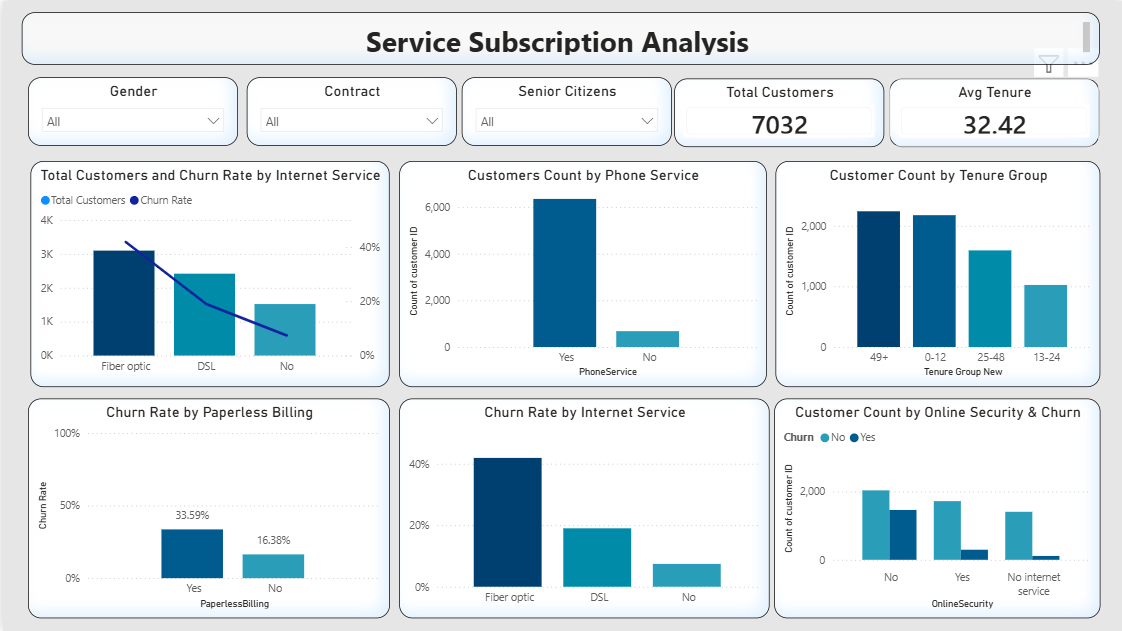

The page's visual inventory and layout, read from the dashboard file:
{"tool":"powerbi","page":{"name":"📱 Service Subscription Analysis","canvas":[1280,720],"ordinal":2},"visuals":[{"type":"clusteredColumnChart","title":"Customers Count by Phone Service","fields":{"Category":["Telco-Customer-Churn.PhoneService"],"Y":["CountNonNull(Telco-Customer-Churn.customer ID)"]},"box":[452.4,182.2,419.8,258.2],"z":0},{"type":"lineClusteredColumnComboChart","title":"Total Customers and Churn Rate by Internet Service","fields":{"Category":["Telco-Customer-Churn.InternetService"],"Y2":["Telco-Customer-Churn.Churn Rate"],"Y":["Telco-Customer-Churn.Total Customers"]},"box":[31.4,182.2,410.2,258.2],"z":1000},{"type":"lineClusteredColumnComboChart","title":"Churn Rate by Paperless Billing","fields":{"Category":["Telco-Customer-Churn.PaperlessBilling"],"Y":["Telco-Customer-Churn.Churn Rate"]},"box":[29,454.8,413.8,250.9],"z":2000},{"type":"slicer","title":"Gender","fields":{"Values":["Telco-Customer-Churn.gender"]},"box":[29,86.9,240.1,78.2],"z":3000},{"type":"slicer","title":"Contract","fields":{"Values":["Telco-Customer-Churn.Contract"]},"box":[278.7,86.9,240.1,78.4],"z":4000},{"type":"slicer","title":"Senior Citizens","fields":{"Values":["Telco-Customer-Churn.SeniorCitizen"]},"box":[523.6,86.9,240.1,78.4],"z":5000},{"type":"clusteredColumnChart","title":"Churn Rate by Internet Service","fields":{"Category":["Telco-Customer-Churn.InternetService"],"Y":["Telco-Customer-Churn.Churn Rate"]},"box":[452.4,454.8,423.5,250.9],"z":6000},{"type":"clusteredColumnChart","title":"Customer Count by Tenure Group","fields":{"Y":["CountNonNull(Telco-Customer-Churn.customer ID)"],"Category":["Telco-Customer-Churn.Tenure Group New"]},"box":[883.1,182.2,371.6,258.2],"z":7000},{"type":"cardVisual","title":"Avg Tenure","fields":{"Data":["Telco-Customer-Churn.Avg Tenure"]},"box":[1013.4,88.1,240.1,78.4],"z":8000},{"type":"cardVisual","title":"Total Customers","fields":{"Data":["Telco-Customer-Churn.Total Customers"]},"box":[767.3,88.1,240.1,78.2],"z":9000},{"type":"clusteredColumnChart","title":"Customer Count by Online Security & Churn","fields":{"Series":["Telco-Customer-Churn.Churn"],"Y":["CountNonNull(Telco-Customer-Churn.customer ID)"],"Category":["Telco-Customer-Churn.OnlineSecurity"]},"box":[881.9,454.8,372.8,250.9],"z":10000},{"type":"textbox","box":[21.7,13.3,1231.8,60.3],"z":11000}]}

Visuals, with their boxes in screenshot pixels (x1, y1, x2, y2), scaled from the page's 1280x720 canvas onto the 1122x631 screenshot:
"Customers Count by Phone Service" clusteredColumnChart: 397/160/765/386
"Total Customers and Churn Rate by Internet Service" lineClusteredColumnComboChart: 28/160/387/386
"Churn Rate by Paperless Billing" lineClusteredColumnComboChart: 25/399/388/618
"Gender" slicer: 25/76/236/145
"Contract" slicer: 244/76/455/145
"Senior Citizens" slicer: 459/76/669/145
"Churn Rate by Internet Service" clusteredColumnChart: 397/399/768/618
"Customer Count by Tenure Group" clusteredColumnChart: 774/160/1100/386
"Avg Tenure" cardVisual: 888/77/1099/146
"Total Customers" cardVisual: 673/77/883/146
"Customer Count by Online Security & Churn" clusteredColumnChart: 773/399/1100/618
textbox: 19/12/1099/65
